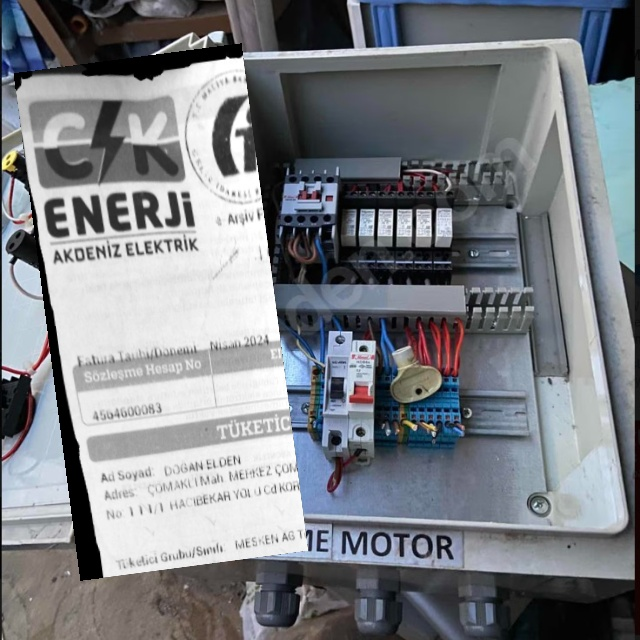electricity-bill: (13, 43, 307, 581)
